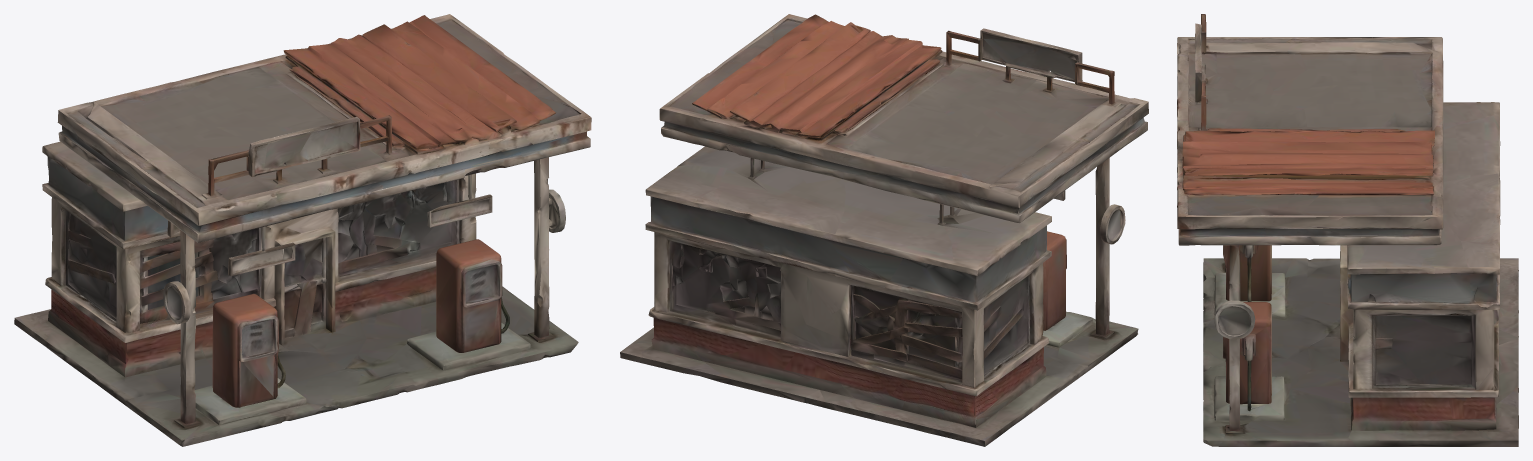
The model's file is gas_station_b_idle.glb.
The picture shows the model from 3 angles, left to right: view 1: azimuth 30°, elevation 25°; view 2: azimuth 150°, elevation 25°; view 3: azimuth 270°, elevation 25°; orthographic projection. The views are drawn at different scales.
Parts seen in each view (by area): view 1: tripo_node_81f536c8-c98a-44c3-b8b6-b544eadb7084; view 2: tripo_node_81f536c8-c98a-44c3-b8b6-b544eadb7084; view 3: tripo_node_81f536c8-c98a-44c3-b8b6-b544eadb7084.
Part boxes in pixels (x1,y1,x2,y2): tripo_node_81f536c8-c98a-44c3-b8b6-b544eadb7084: (14, 14, 591, 446); tripo_node_81f536c8-c98a-44c3-b8b6-b544eadb7084: (620, 14, 1148, 446); tripo_node_81f536c8-c98a-44c3-b8b6-b544eadb7084: (1177, 14, 1518, 446).
Size of the model in its own units: 12 by 8.32 by 9.49.
1 material, 1 textured.
